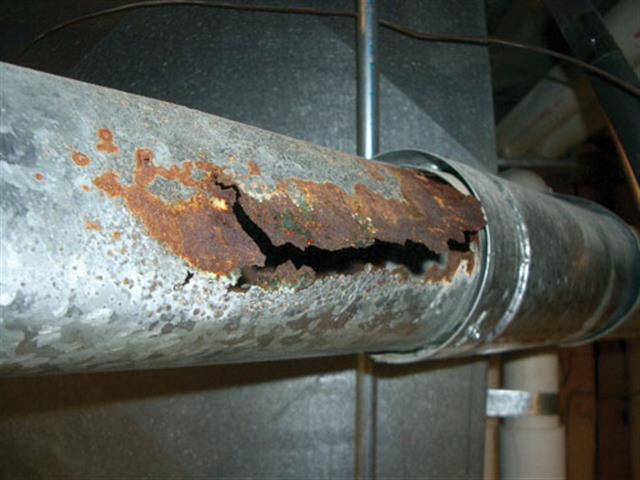Severe: (98, 120, 485, 298)
